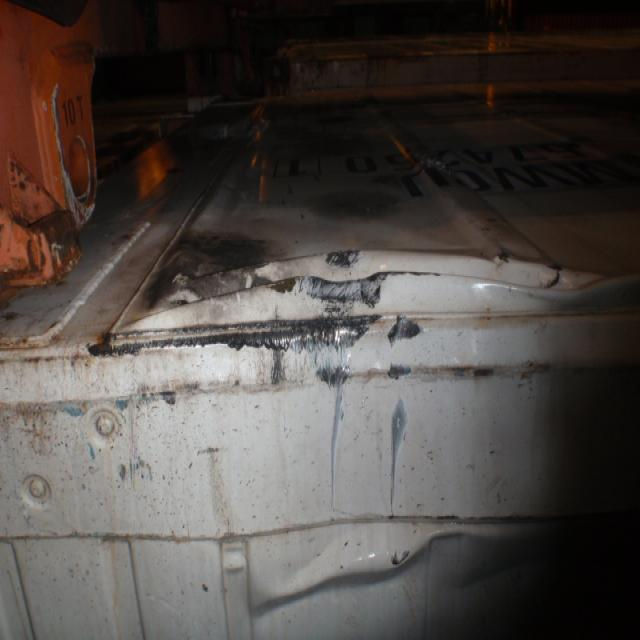dent: (123, 244, 599, 325), (247, 515, 538, 619)
